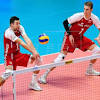ball: (38, 33, 49, 44)
